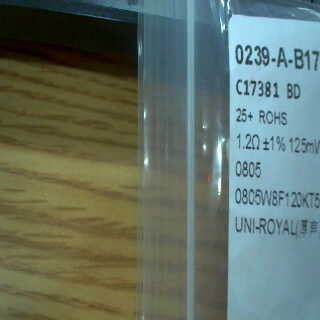1.2R: (233, 129, 264, 183)
